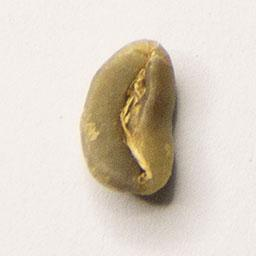longberry: (76, 35, 182, 200)
